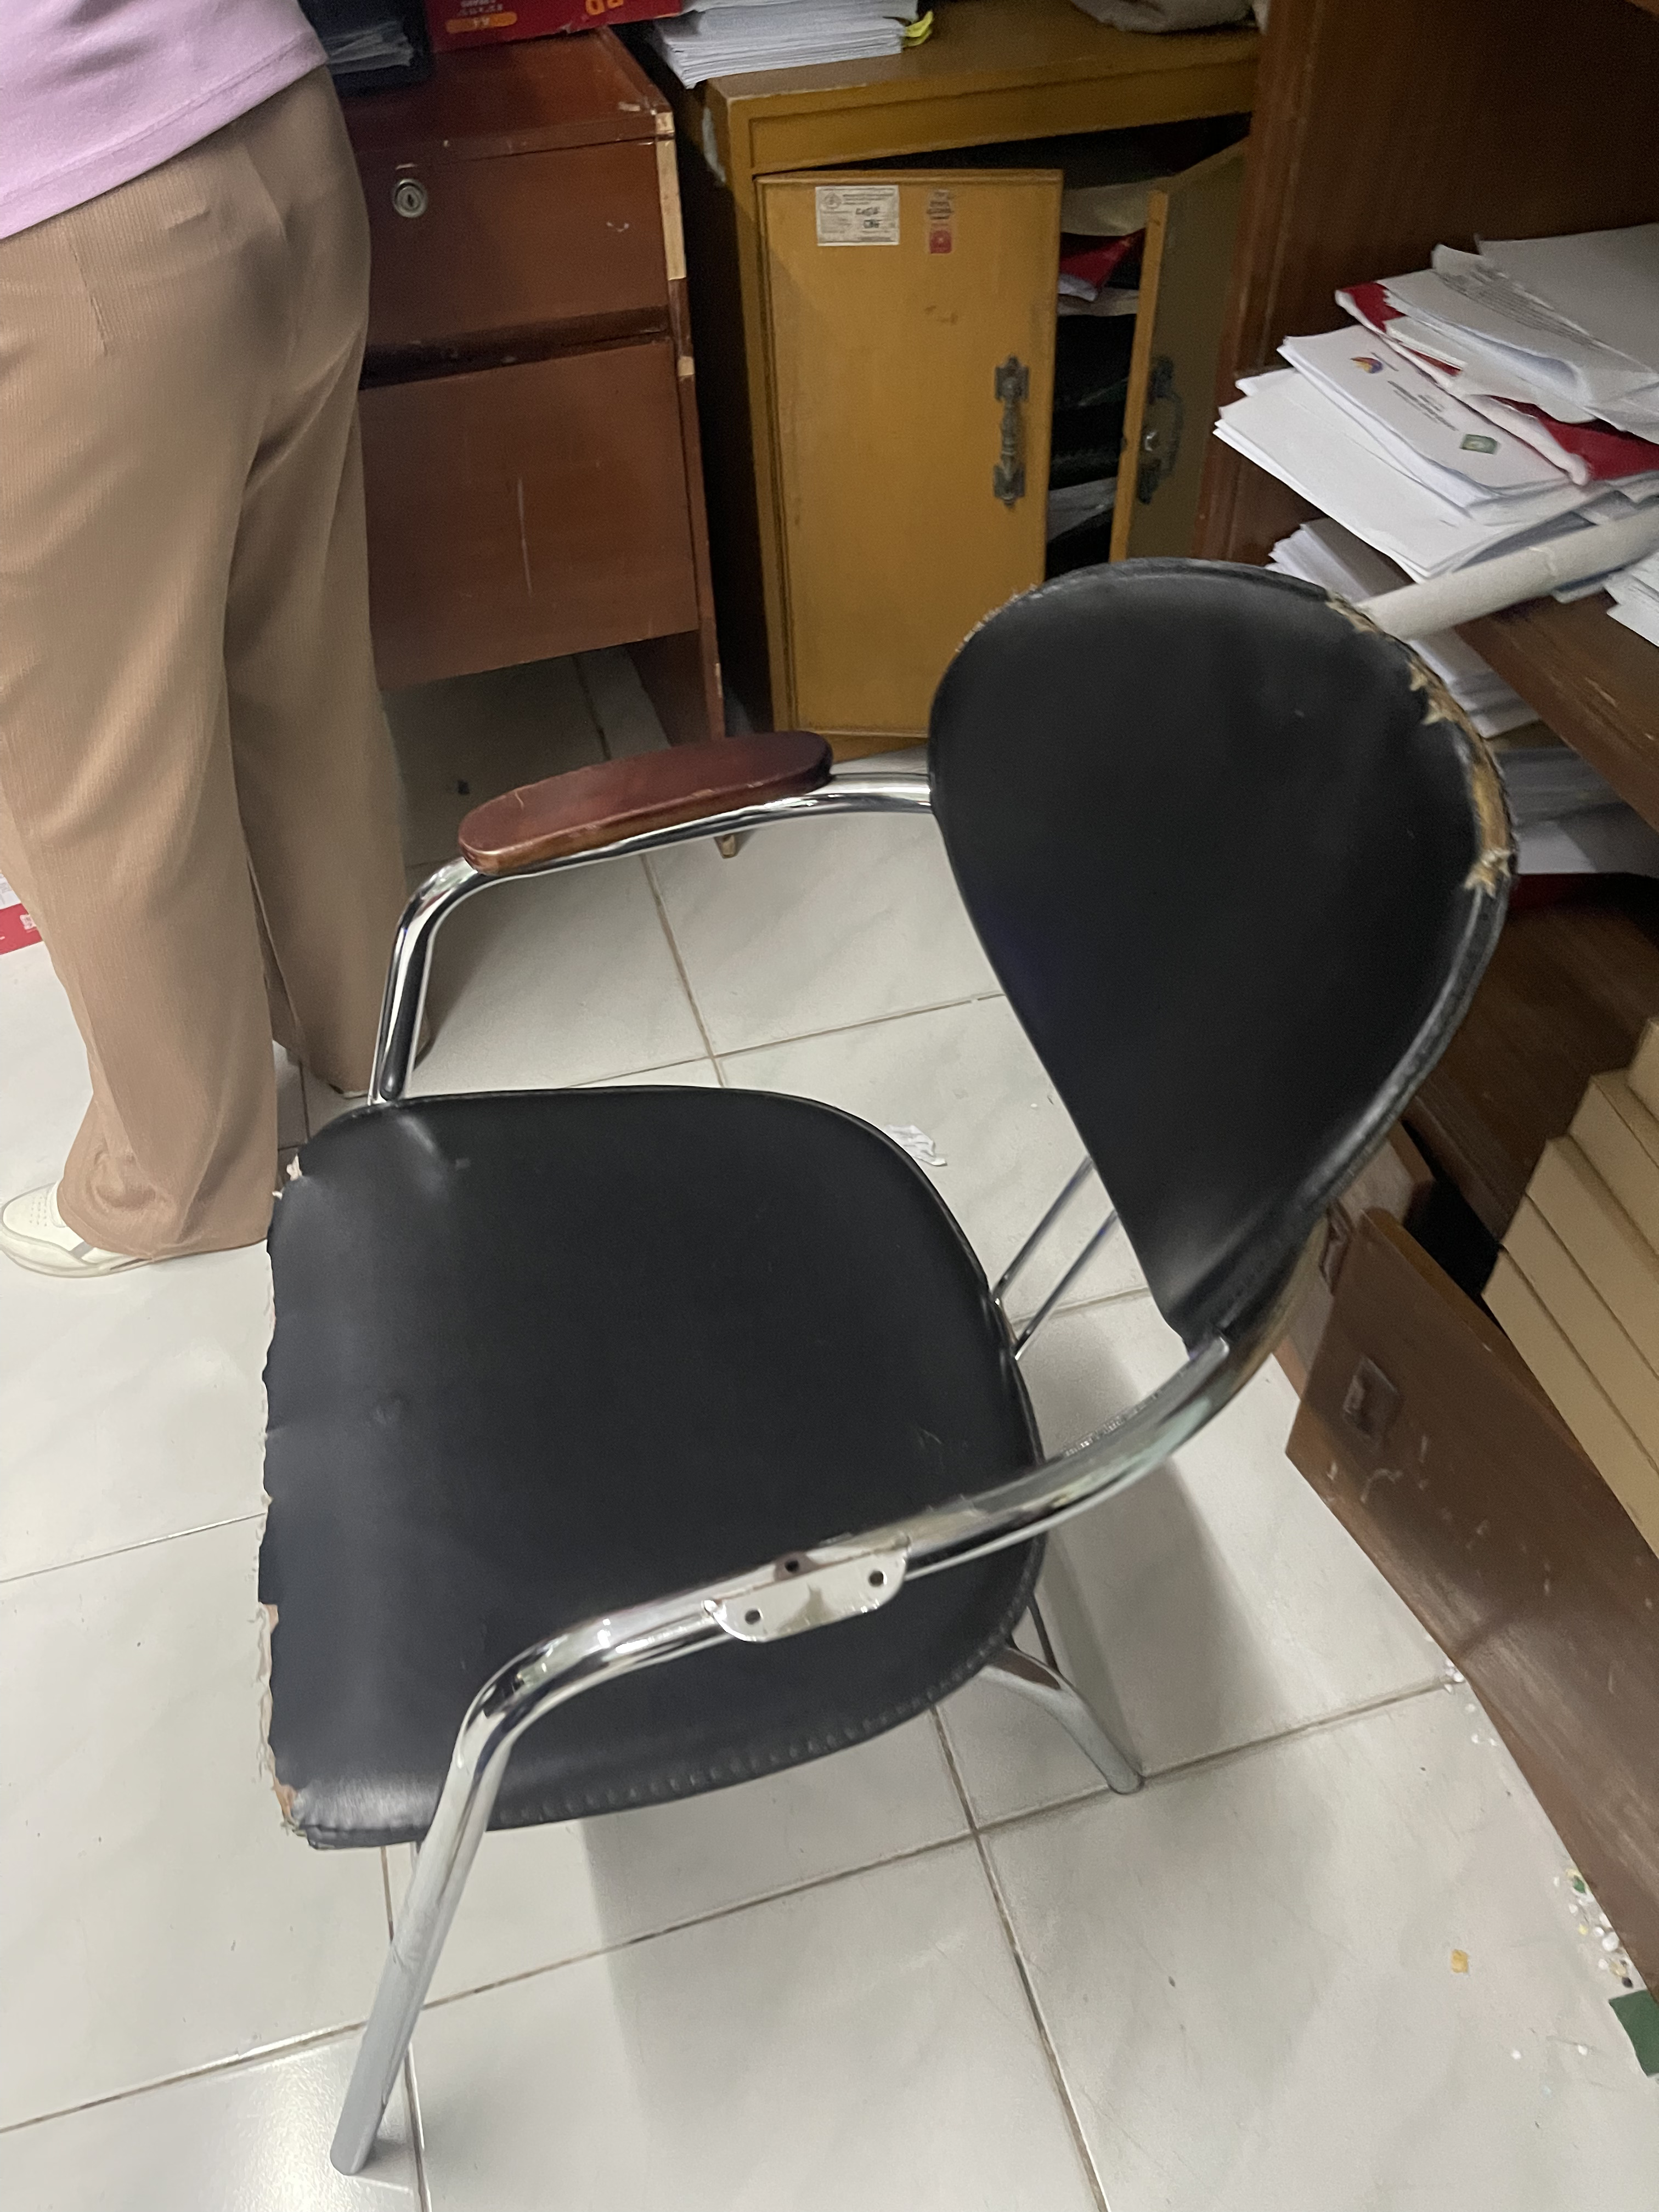chair1: (261, 556, 1521, 2177)
